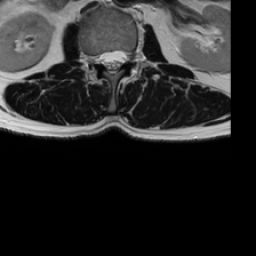CCS_normal: (108, 42, 117, 82)
LFS_normal: (126, 40, 134, 68)
LLS_normal: (117, 41, 126, 74)
RFS_normal: (90, 43, 98, 73)
RLS_normal: (98, 42, 108, 74)
